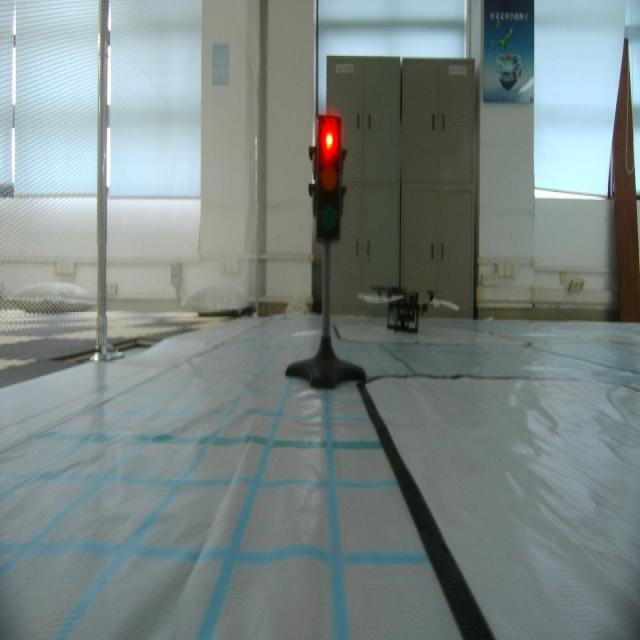red: (308, 109, 346, 250)
